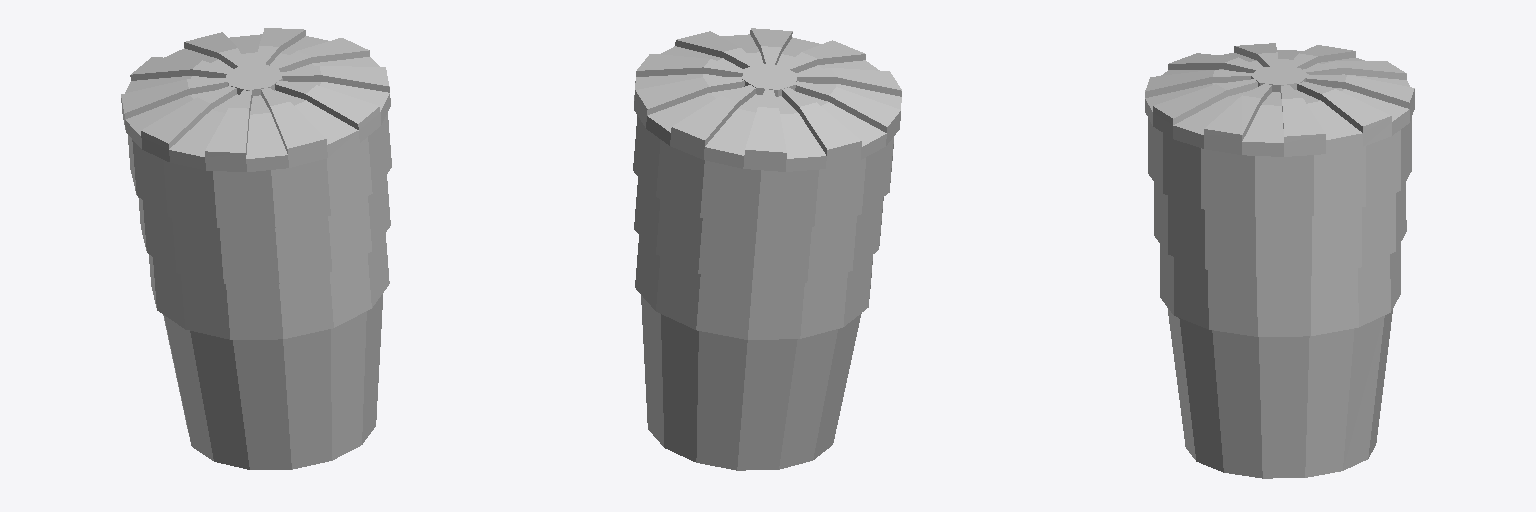
The model's file is Road1_0_4.obj.
The picture shows the model from 3 angles: view 1: azimuth 30°, elevation 25°; view 2: azimuth 150°, elevation 25°; view 3: azimuth 270°, elevation 25°; orthographic projection.
Visible parts, largest first — view 1: GSDRoadBarrel3_Rigid; view 2: GSDRoadBarrel3_Rigid; view 3: GSDRoadBarrel3_Rigid.
Part boxes in pixels (left/top/right/bottom): GSDRoadBarrel3_Rigid: left=121, top=28, right=391, bottom=469; GSDRoadBarrel3_Rigid: left=633, top=28, right=901, bottom=470; GSDRoadBarrel3_Rigid: left=1145, top=43, right=1414, bottom=478.
Size of the model in its own units: 0.9229 by 1.39 by 0.9197.